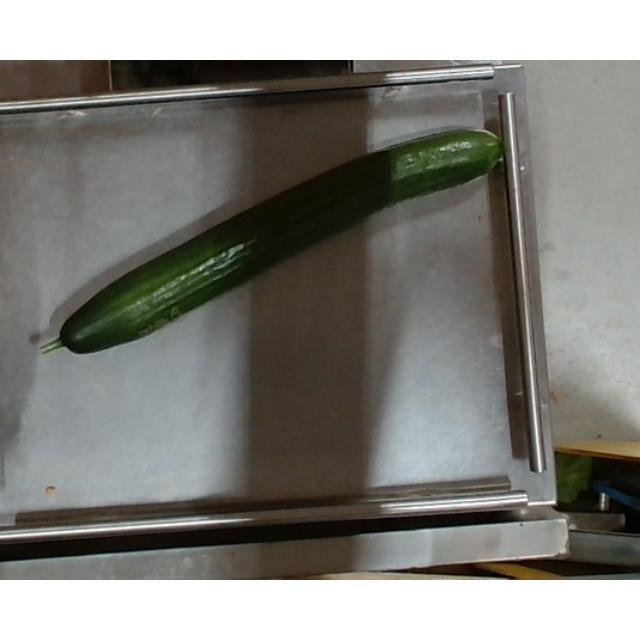cucumber: (39, 114, 503, 356)
